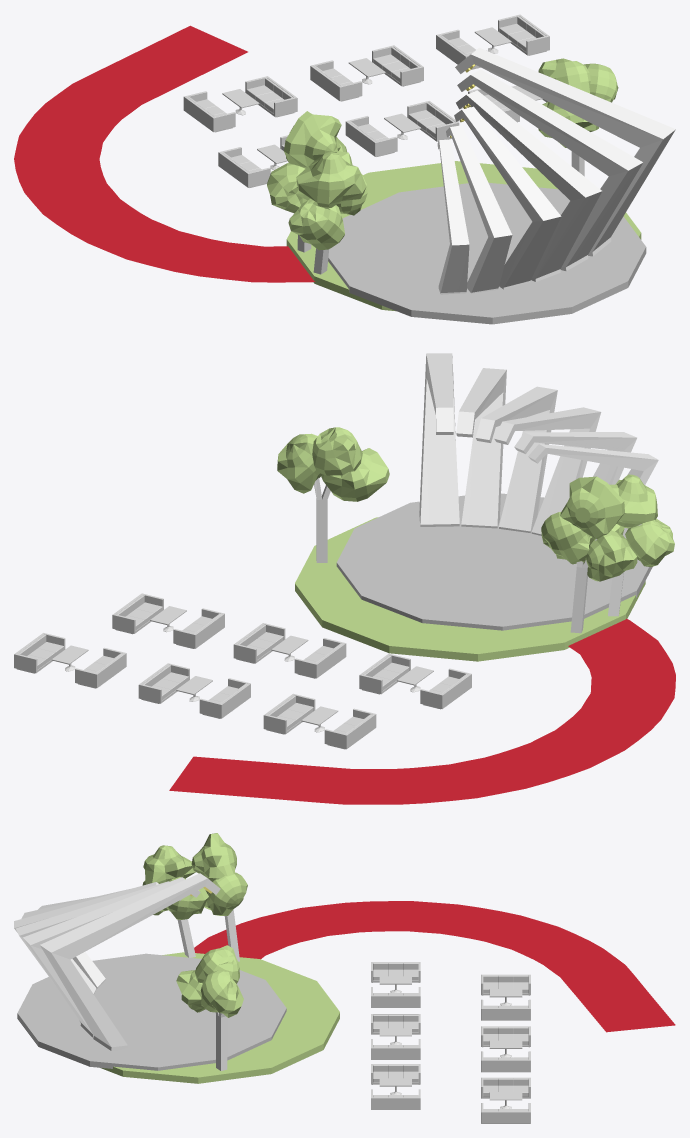
3 views of the same model, one above another, from view 1: azimuth 30°, elevation 25°; view 2: azimuth 150°, elevation 25°; view 3: azimuth 270°, elevation 25° (orthographic). The views are drawn at different scales.
Visible parts, largest first — view 1: Plane, group1705151618, group2055578433, group1402719945, group2033656494, group279793360, group318158115, group1657921429, group20122509, group1349254723, group1700890410, group648915753 (+13 smaller); view 2: Plane, group1705151618, group318158115, group2055578433, group1402719945, group2033656494, group279793360, group1700890410, group1657921429, group1238445390, group20122509, group1279349665 (+19 smaller); view 3: group1705151618, Plane, group318158115, group2055578433, group1402719945, group1811947510, group1700890410, group1349254723, group1516719945, group2033656494, group1279349665, group279793360 (+17 smaller).
Part boxes in pixels (x1=…): Plane: x1=14, y1=25, x2=315, y2=282; group1705151618: x1=328, y1=182, x2=646, y2=324; group2055578433: x1=455, y1=47, x2=675, y2=256; group1402719945: x1=457, y1=69, x2=643, y2=271; group2033656494: x1=456, y1=90, x2=602, y2=281; group279793360: x1=454, y1=106, x2=561, y2=289; group318158115: x1=286, y1=161, x2=641, y2=311; group1657921429: x1=446, y1=125, x2=512, y2=293; group20122509: x1=437, y1=139, x2=469, y2=294; group1349254723: x1=296, y1=151, x2=366, y2=207; group1700890410: x1=284, y1=111, x2=341, y2=168; group648915753: x1=288, y1=199, x2=344, y2=250; Plane: x1=169, y1=618, x2=675, y2=804; group1705151618: x1=336, y1=493, x2=652, y2=630; group318158115: x1=295, y1=517, x2=645, y2=661; group2055578433: x1=419, y1=353, x2=459, y2=526; group1402719945: x1=456, y1=368, x2=506, y2=528; group2033656494: x1=475, y1=386, x2=557, y2=532; group279793360: x1=494, y1=407, x2=601, y2=535; group1700890410: x1=560, y1=476, x2=624, y2=538; group1657921429: x1=514, y1=432, x2=636, y2=484; group1238445390: x1=321, y1=448, x2=389, y2=501; group20122509: x1=528, y1=444, x2=658, y2=484; group1279349665: x1=312, y1=427, x2=362, y2=475; group1705151618: x1=17, y1=953, x2=286, y2=1070; Plane: x1=194, y1=901, x2=675, y2=1032; group318158115: x1=101, y1=952, x2=339, y2=1083; group2055578433: x1=40, y1=873, x2=220, y2=1050; group1402719945: x1=23, y1=877, x2=200, y2=1037; group1811947510: x1=200, y1=970, x2=243, y2=1017; group1700890410: x1=191, y1=833, x2=236, y2=881; group1349254723: x1=143, y1=845, x2=195, y2=884; group1516719945: x1=209, y1=872, x2=247, y2=915; group2033656494: x1=15, y1=881, x2=181, y2=1022; group1279349665: x1=195, y1=945, x2=239, y2=983; group279793360: x1=14, y1=882, x2=158, y2=932.
Size of the model in its own units: 24.42 by 7.86 by 30.54.
